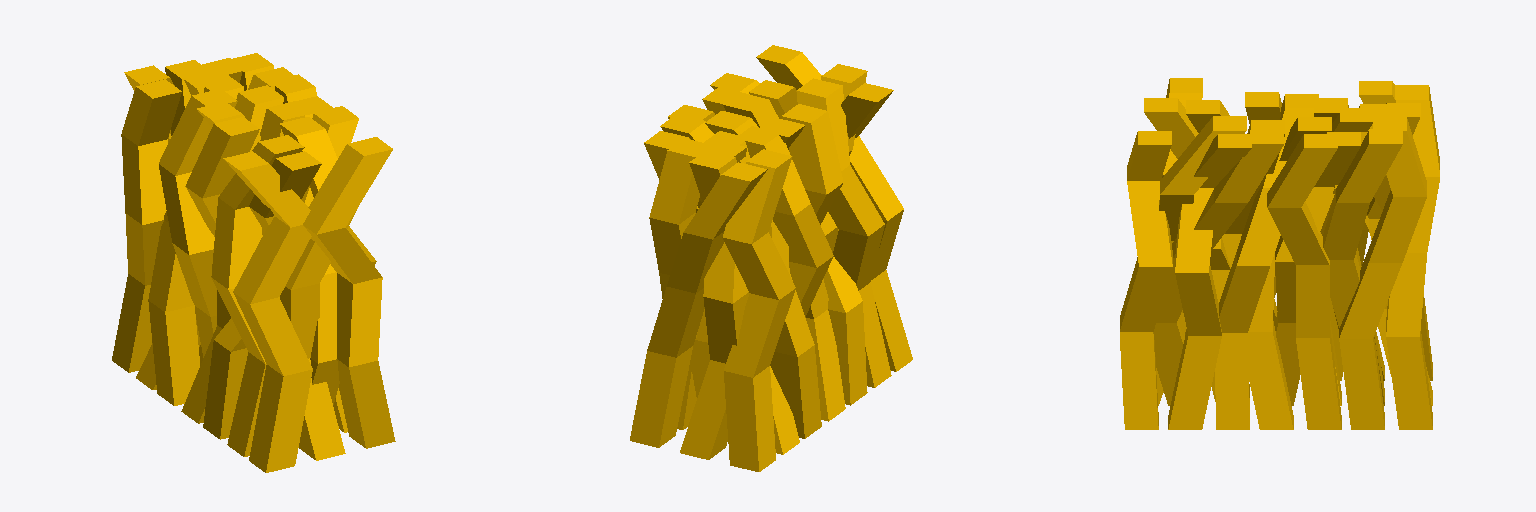
The picture shows the model from 3 angles: view 1: azimuth 30°, elevation 25°; view 2: azimuth 150°, elevation 25°; view 3: azimuth 270°, elevation 25°; orthographic projection.
Visible parts, largest first — view 1: Cubo.033_Cubo.062; view 2: Cubo.033_Cubo.062; view 3: Cubo.033_Cubo.062.
Boxes of the visible parts, box(x1,y1,x2,y2) form: Cubo.033_Cubo.062: box(112, 53, 395, 472); Cubo.033_Cubo.062: box(630, 45, 912, 471); Cubo.033_Cubo.062: box(1120, 78, 1439, 429).
Bounding box in the file's own units: 0.0732 × 0.1392 × 0.1406.
21 materials, 1 textured.